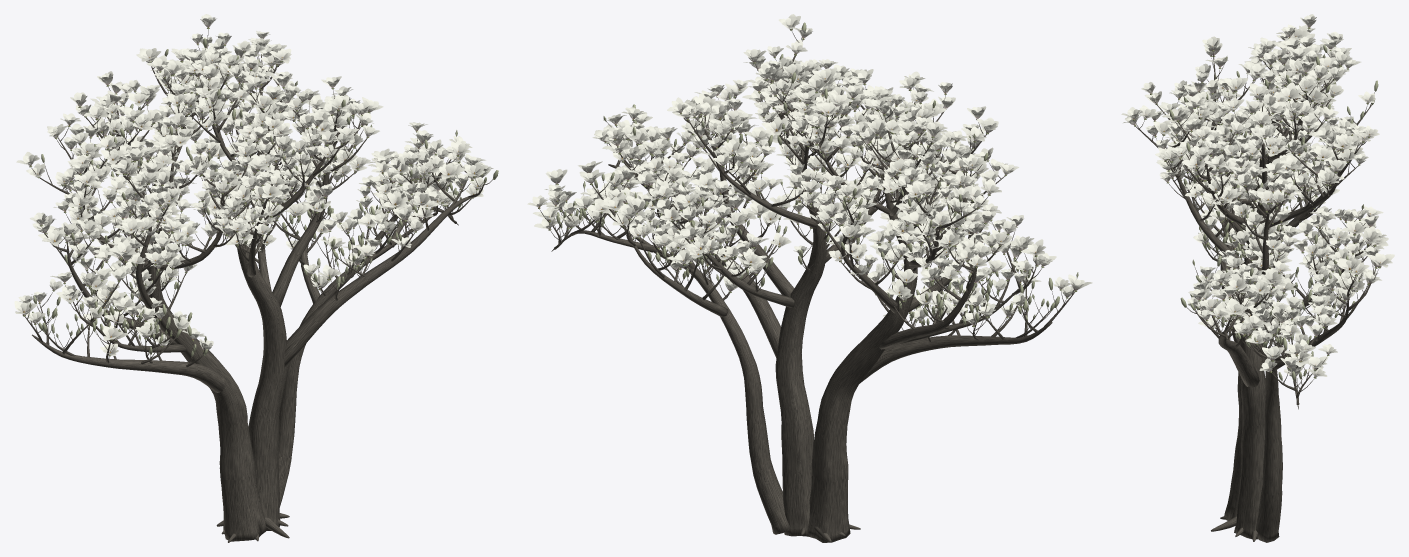
File: white-magnolia-draco.glb
3 views of the same model, side by side, from view 1: azimuth 30°, elevation 25°; view 2: azimuth 150°, elevation 25°; view 3: azimuth 270°, elevation 25° (orthographic). The views are drawn at different scales.
Visible parts, largest first — view 1: Flowers, Tree_Wood, Buds; view 2: Flowers, Tree_Wood, Buds; view 3: Flowers, Tree_Wood, Buds.
Part boxes in pixels (bbox=[...]): Flowers: bbox=[14, 14, 493, 356]; Tree_Wood: bbox=[25, 30, 492, 542]; Buds: bbox=[29, 38, 498, 356]; Flowers: bbox=[527, 14, 1092, 326]; Tree_Wood: bbox=[539, 31, 1074, 542]; Buds: bbox=[556, 22, 1078, 325]; Flowers: bbox=[1121, 14, 1394, 378]; Tree_Wood: bbox=[1134, 29, 1378, 542]; Buds: bbox=[1169, 45, 1378, 380].
Bounding box in the file's own units: 7.18 × 6.61 × 3.45.
Materials: 5 (2 with a texture image).
